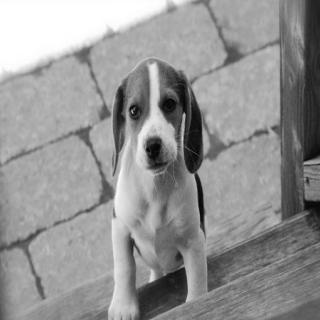dog: (109, 62, 210, 186)
nose: (143, 136, 164, 158)
